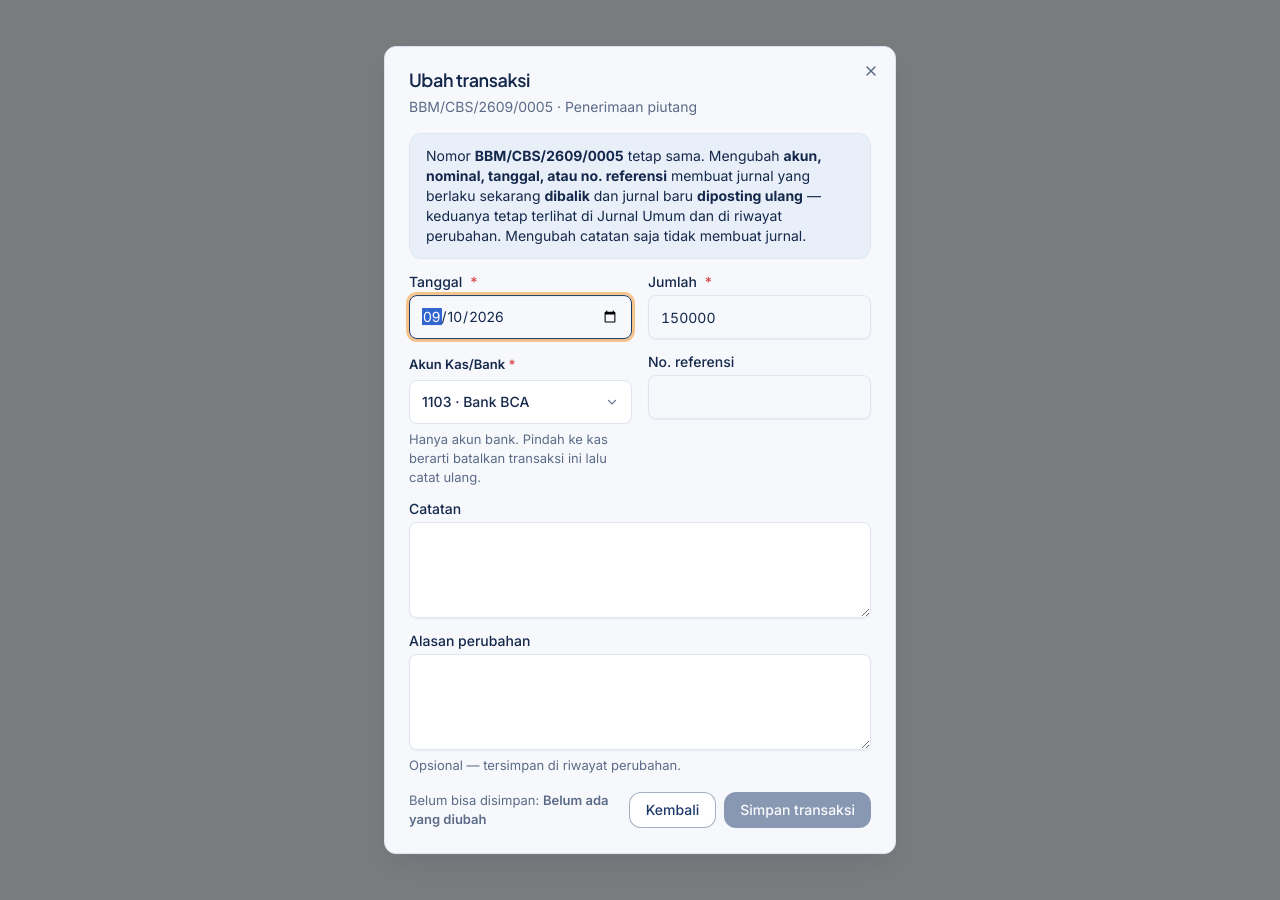
CashTransactionEditDialog — the same-class cash side › offers only bank accounts for a bank transaction
Click the button with aria-label "Akun Kas/Bank": (520, 402) [409,380,632,424]
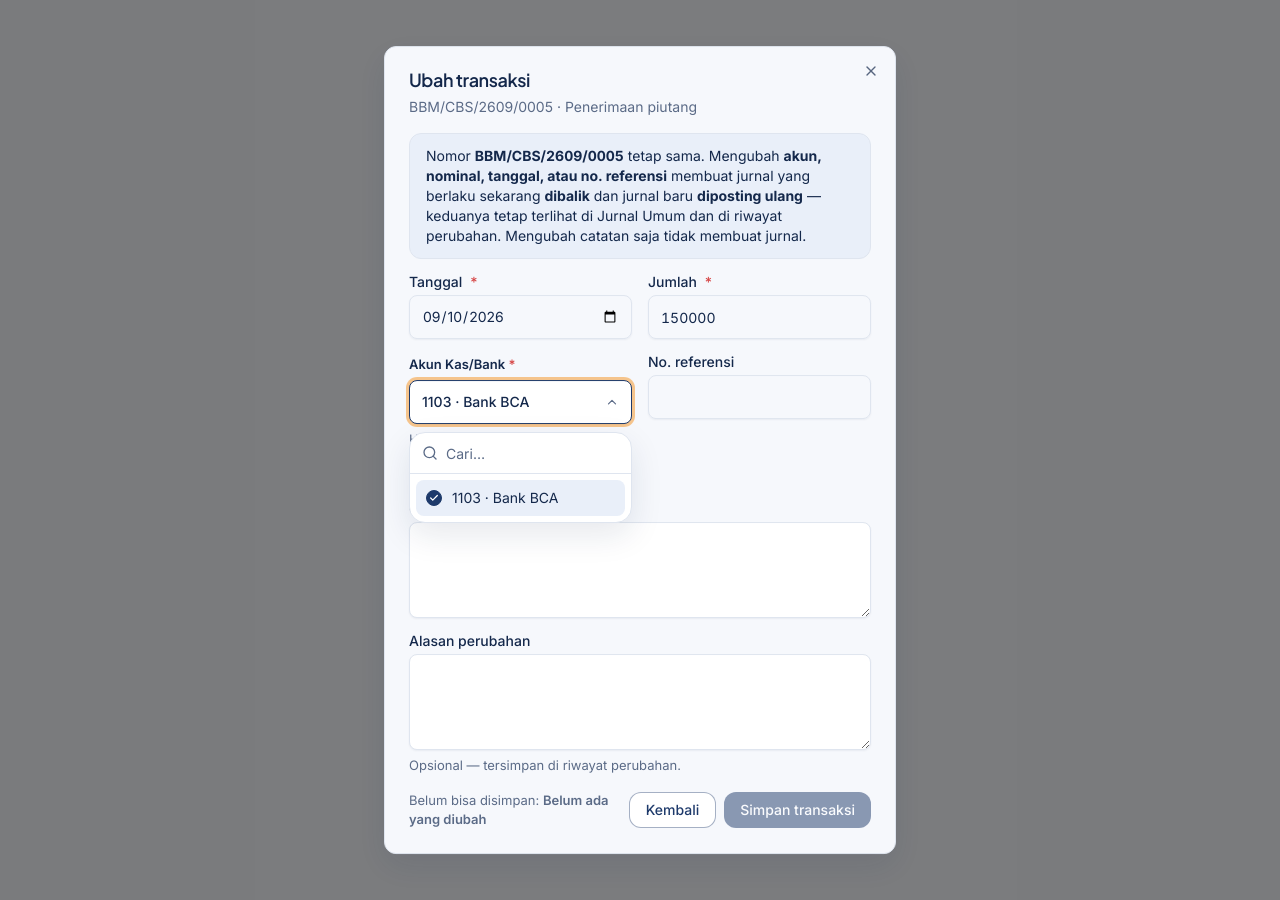
Expected: the option "1103 · Bank BCA" is shown, [416,480,625,516]
